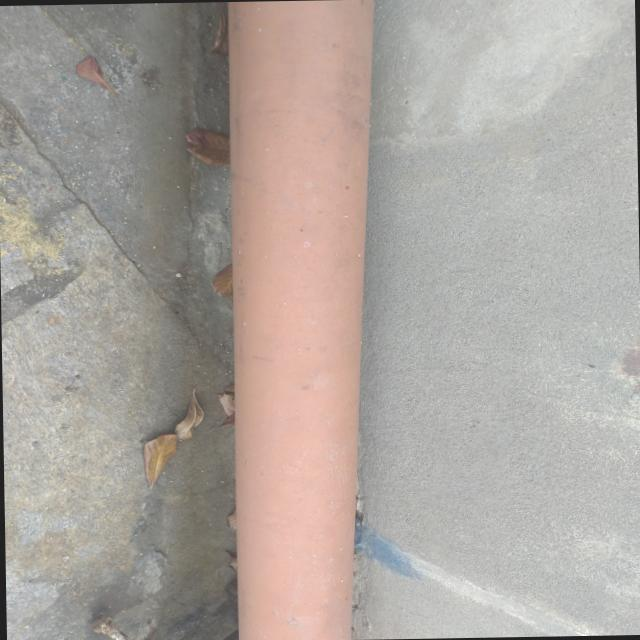gas: (227, 0, 371, 640)
